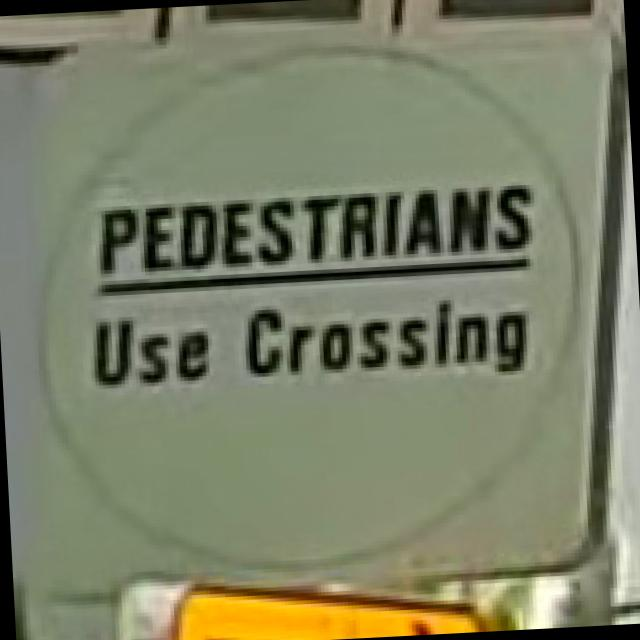pedestriancrossing_sign: (22, 175, 570, 412)
